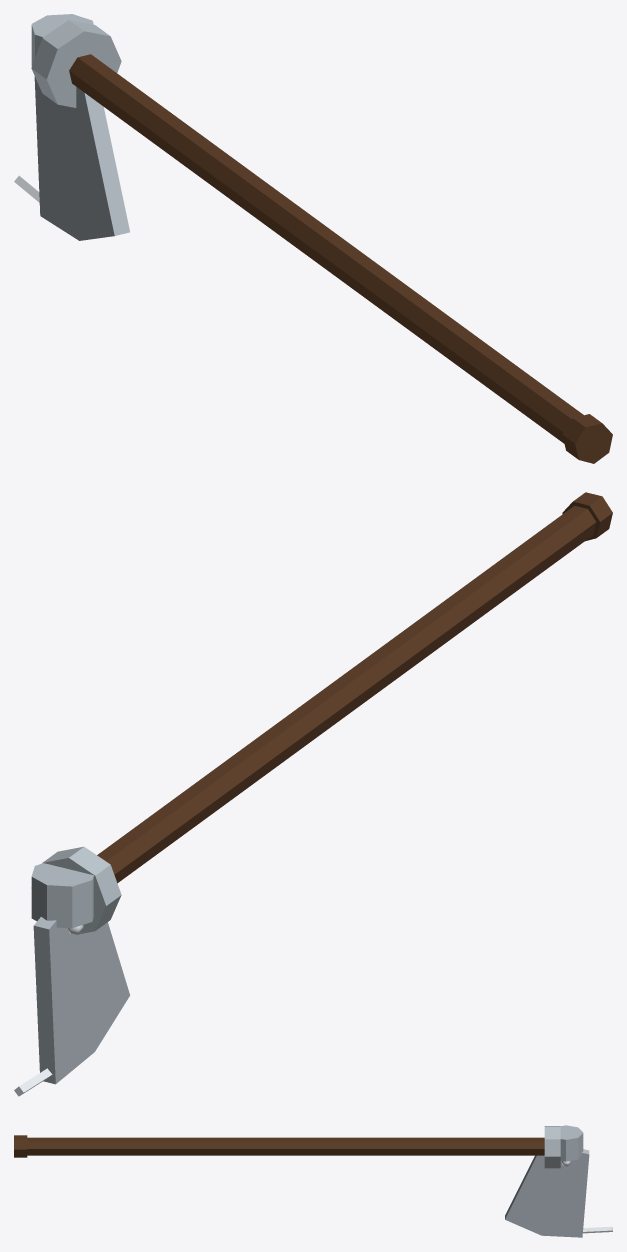
The model's file is Tool_Hoe_Steel.fbx.
3 views of the same model, one above another, from view 1: azimuth 30°, elevation 25°; view 2: azimuth 150°, elevation 25°; view 3: azimuth 270°, elevation 25° (orthographic). The views are drawn at different scales.
Visible parts, largest first — view 1: Tool_Hoe_Steel; view 2: Tool_Hoe_Steel; view 3: Tool_Hoe_Steel.
Boxes of the visible parts, <box> form: Tool_Hoe_Steel: <box>14,14,612,463</box>; Tool_Hoe_Steel: <box>14,492,612,1096</box>; Tool_Hoe_Steel: <box>14,1125,612,1237</box>.
Bounding box in the file's own units: 0.0338 × 0.0902 × 0.4491.
